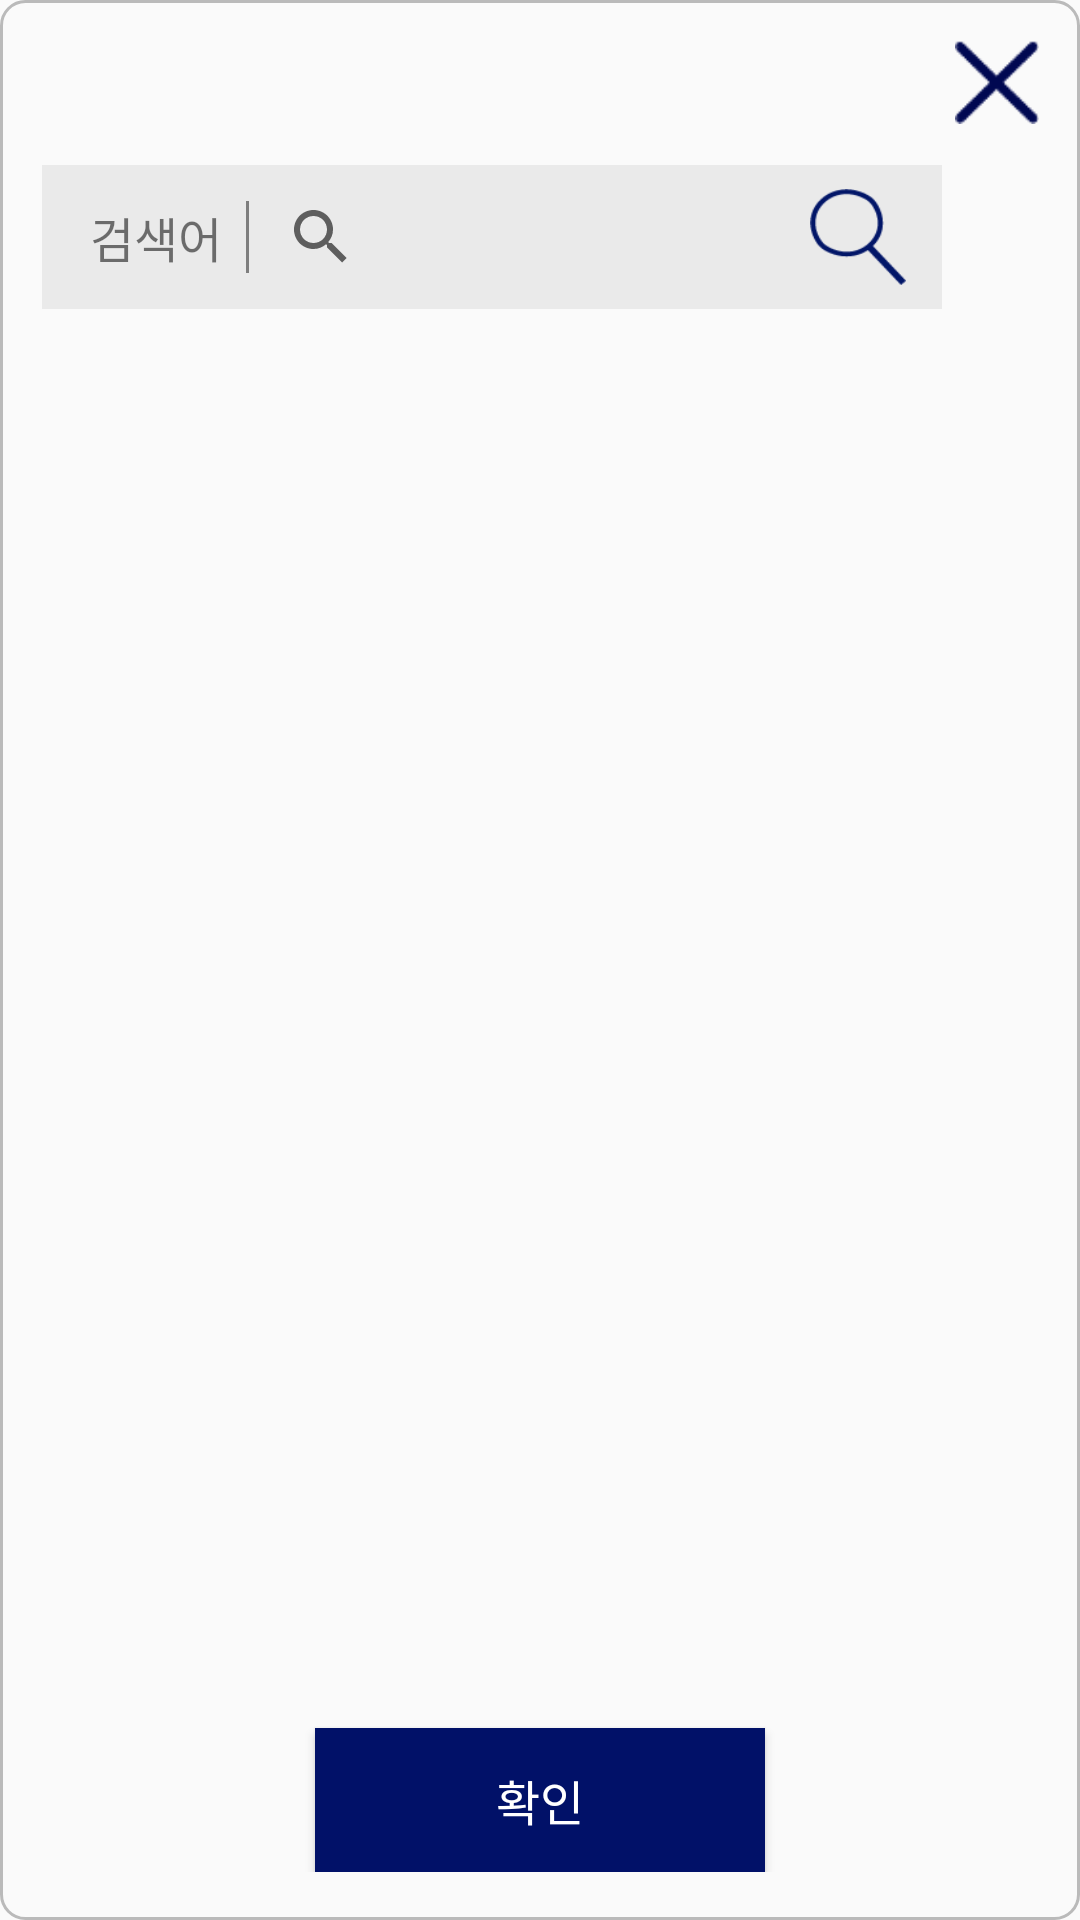

Screen size 1080px x 1920px. Icon name, then its center in pixels as (x,y):
cross: (997,82)
search: (858,237)
